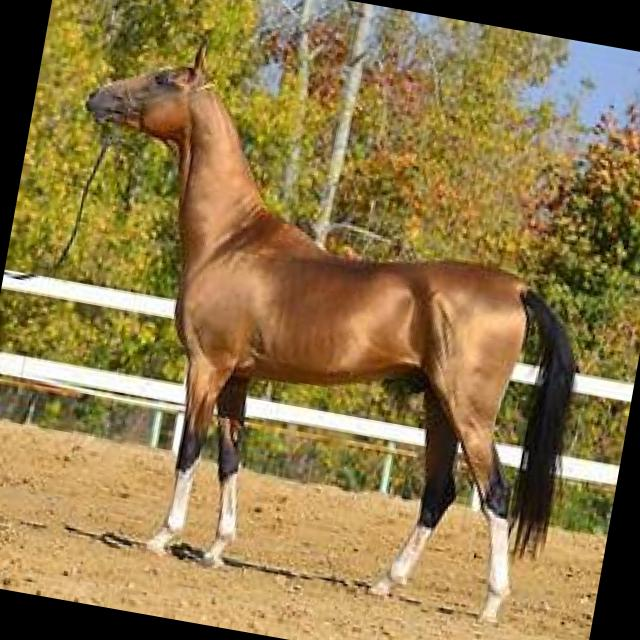horse: (8, 18, 630, 634)
